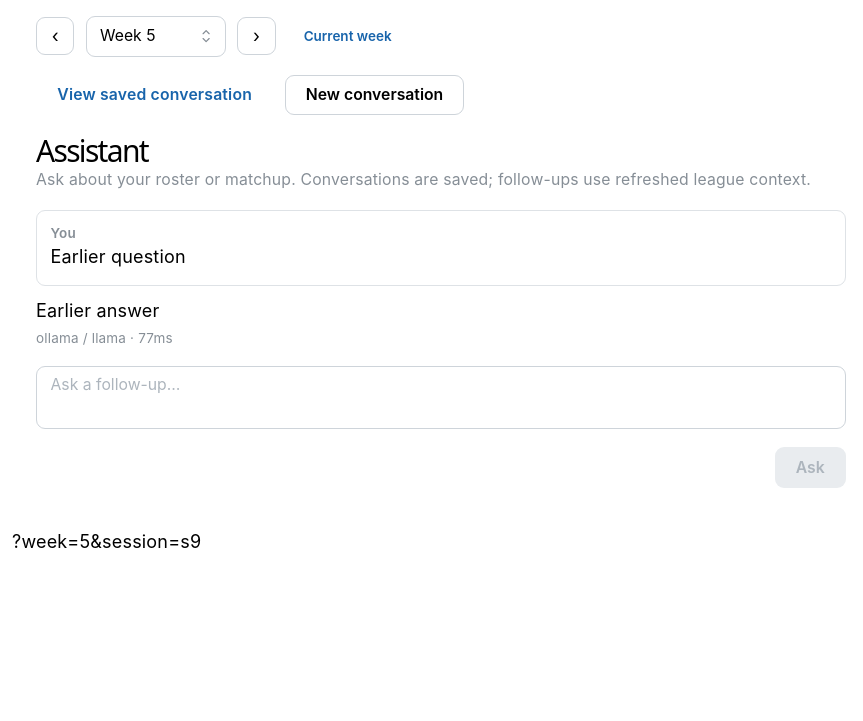
Test: loads a saved session from the URL and continues it
Expected: the text "Earlier answer" is shown, [36,300,160,321]
Expected: the text "Earlier question" is shown, [50,246,186,267]
Type "And next week?" into the text box named "question".
click(441, 398); type("And next week?")  # box [36,366,846,429]
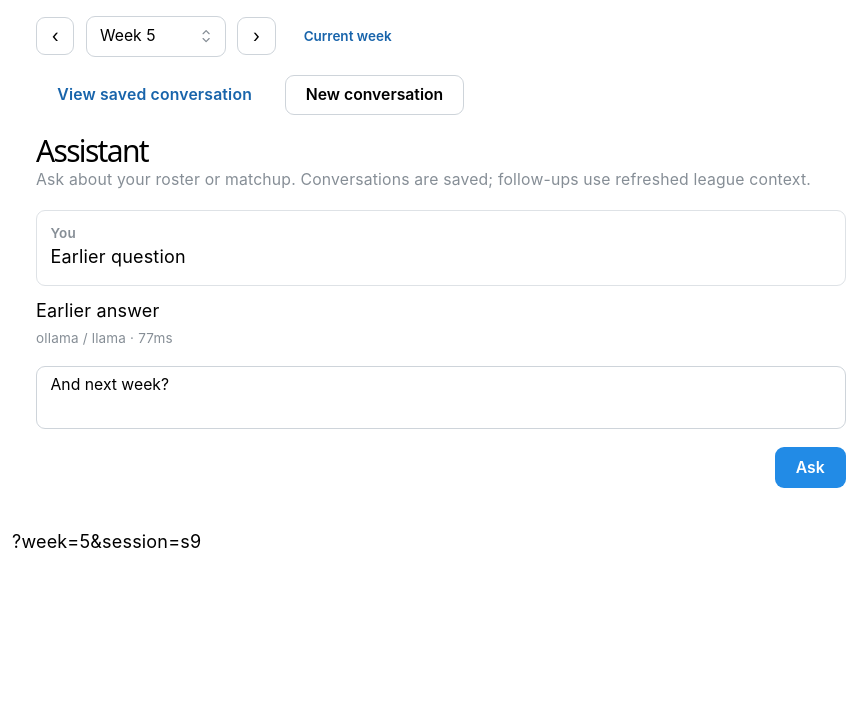
Click the button "Ask".
click(810, 468)  # box [774,447,846,488]
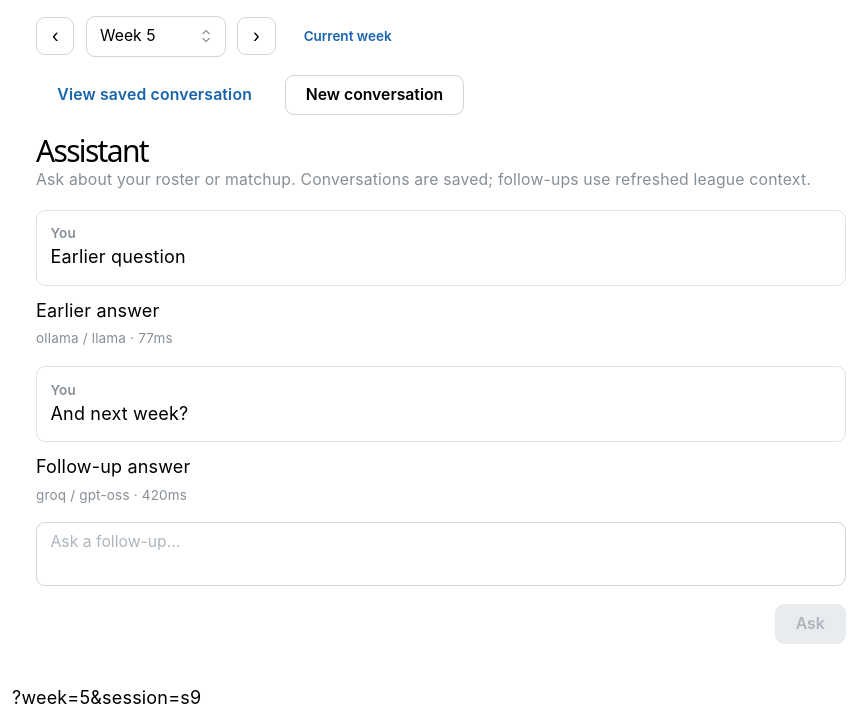
Expected: the text "Earlier answer" is shown, [36,300,160,321]
Result: the text "Follow-up answer" is shown at [36,456,190,477]
